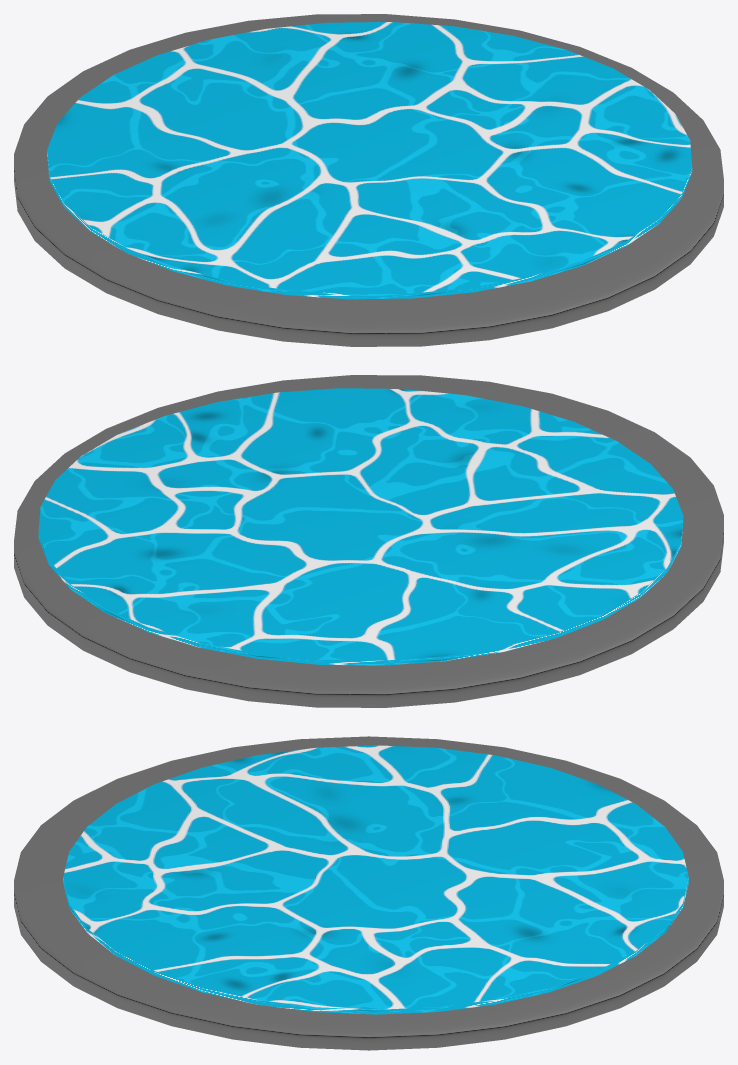
File: pool.gltf
The picture shows the model from 3 angles, top to bottom: view 1: azimuth 30°, elevation 25°; view 2: azimuth 150°, elevation 25°; view 3: azimuth 270°, elevation 25°; orthographic projection. The views are drawn at different scales.
Visible parts, largest first — view 1: Cylinder.002, Cylinder.001; view 2: Cylinder.002, Cylinder.001; view 3: Cylinder.002, Cylinder.001.
Part boxes in pixels (x1,y1,x2,y2): Cylinder.002: [47, 22, 692, 299]; Cylinder.001: [14, 14, 723, 346]; Cylinder.002: [38, 388, 683, 665]; Cylinder.001: [14, 375, 723, 707]; Cylinder.002: [63, 745, 688, 1014]; Cylinder.001: [14, 736, 723, 1050].
Bounding box in the file's own units: 18.98 × 0.9609 × 19.8.
Materials: 2 (1 with a texture image).
